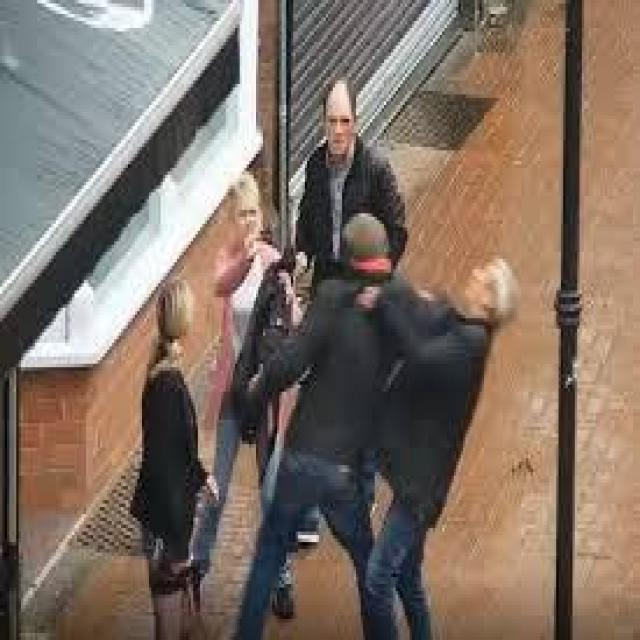fight: (204, 129, 538, 640), (112, 268, 221, 638)
